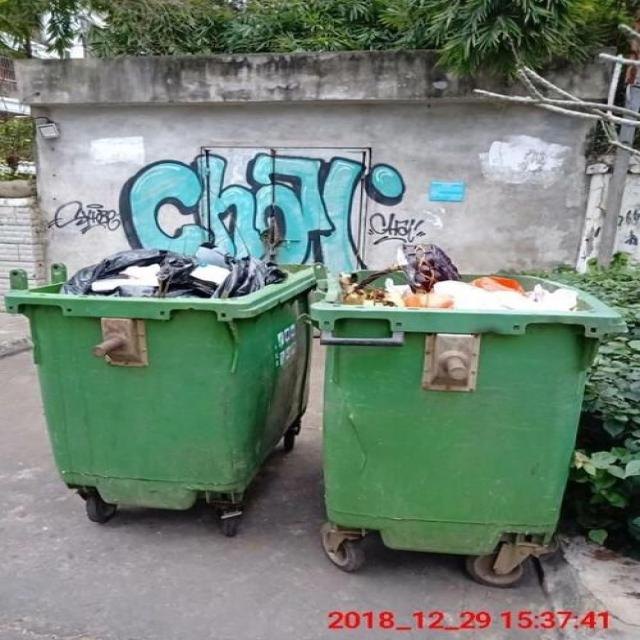overflow: (307, 243, 626, 551), (6, 246, 324, 506)
